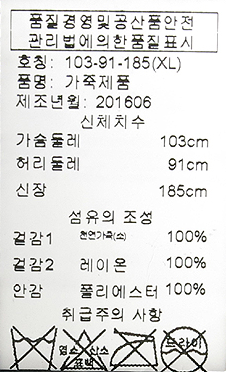KR_no_bleach: (60, 327, 109, 371)
KR_no_dry_clean: (160, 325, 209, 372)
KR_no_iron: (107, 327, 159, 371)
KR_no_wash: (8, 323, 57, 371)
